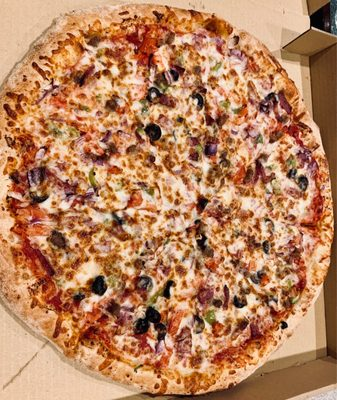sandwich: (0, 4, 332, 398)
